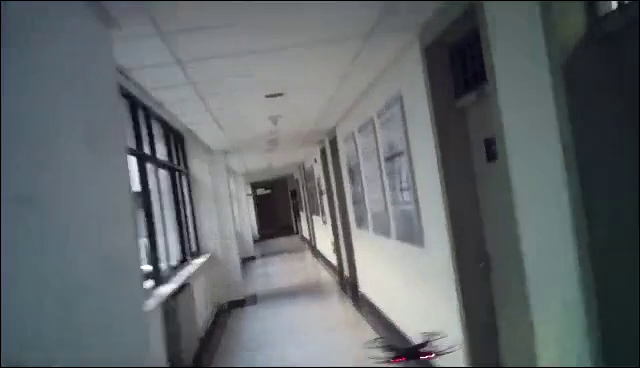drone: (360, 331, 460, 363)
